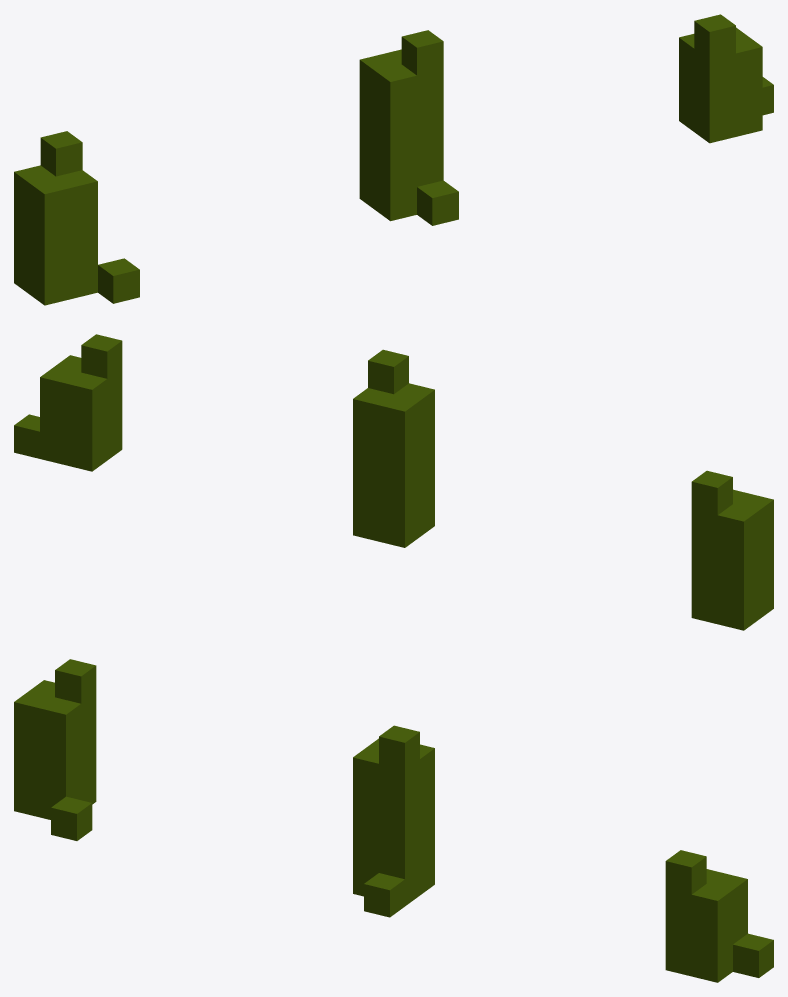
File: plant random (first stade).obj
3 renders of one model, top to bottom at view 1: azimuth 30°, elevation 25°; view 2: azimuth 150°, elevation 25°; view 3: azimuth 330°, elevation 25°, orthographic. The views are drawn at different scales.
Visible parts, largest first — view 1: plant random (first stade); view 2: plant random (first stade); view 3: plant random (first stade).
Boxes of the visible parts, x1,y1,x2,y2 form: plant random (first stade): (14,14,773,305); plant random (first stade): (14,334,773,630); plant random (first stade): (14,659,773,982).
Bounding box in the file's own units: 28 × 6 × 3.
Materials: 1 (1 with a texture image).
